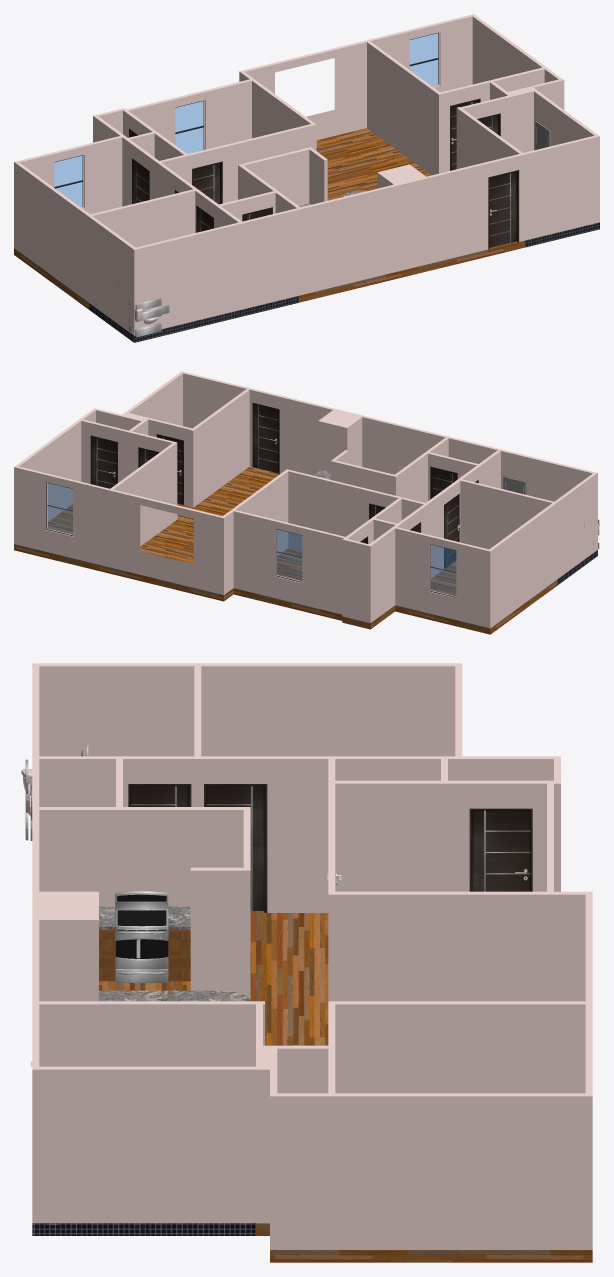
The model's file is 3BED.glb.
3 views of the same model, one above another, from view 1: azimuth 30°, elevation 25°; view 2: azimuth 150°, elevation 25°; view 3: azimuth 270°, elevation 25° (orthographic). The views are drawn at different scales.
Parts seen in each view (by area): view 1: G-Object.113, G-Object, G-Object.006, G-Object.002, C-small window.001, C-small window, C-small window.002, G-Object.050, G-Object.105, G-Object.001, G-Object.017; view 2: G-Object.113, G-Object, G-Object.006, C-small window.002, C-small window, C-small window.001, G-Object.028, G-Object.061, G-Object.083, G-Object.039; view 3: G-Object.113, G-Object, G-Object.094, G-Object.001, G-Object.061, G-Object.155, G-Object.147, G-Object.152, G-Object.072, G-Object.138, G-Object.129.
Boxes of the visible parts, x1,y1,x2,y2 form: G-Object.113: (14,14,599,335); G-Object: (14,128,525,309); G-Object.006: (489,172,516,247); G-Object.002: (89,296,298,342); C-small window.001: (175,100,205,153); C-small window: (409,32,440,87); C-small window.002: (54,154,84,208); G-Object.050: (193,163,219,204); G-Object.105: (132,159,148,203); G-Object.001: (525,222,599,247); G-Object.017: (451,100,477,170); G-Object.113: (14,371,597,628); G-Object: (14,466,557,634); G-Object.006: (253,404,278,473); C-small window.002: (429,544,456,598); C-small window: (46,482,73,536); C-small window.001: (275,528,302,582); G-Object.028: (91,436,116,488); G-Object.061: (444,495,459,568); G-Object.083: (432,468,456,497); G-Object.039: (157,435,182,504); G-Object.113: (32,663,592,1249); G-Object: (99,911,592,1262); G-Object.094: (471,810,530,891); G-Object.001: (32,1223,255,1235); G-Object.061: (206,786,264,910); G-Object.155: (115,928,168,969); G-Object.147: (99,990,250,1001); G-Object.152: (115,903,168,929); G-Object.072: (131,786,188,806); G-Object.138: (170,930,190,977); G-Object.129: (99,906,190,929).
Bounding box in the file's own units: 14.77 × 2.64 × 8.23.
Materials: 28 (12 with a texture image).
